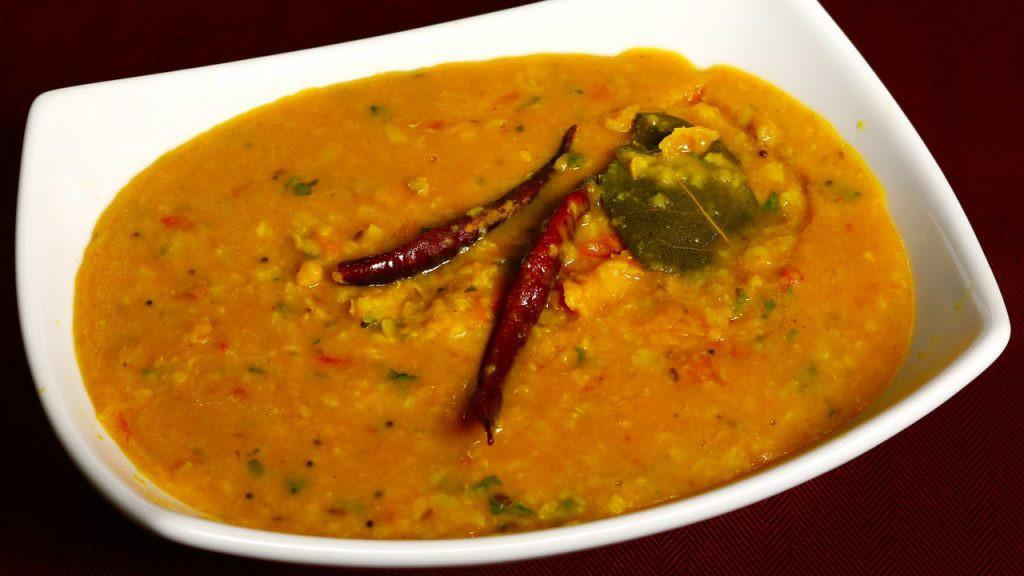Dal: (74, 48, 914, 539)
